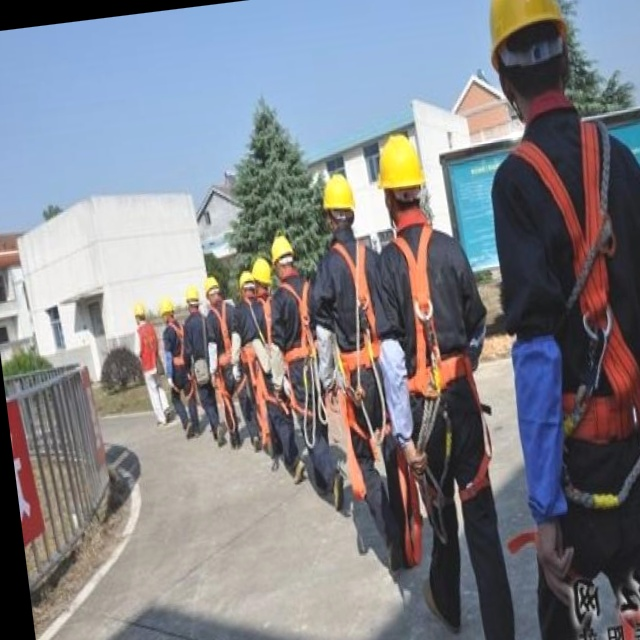Con_Casco: (481, 0, 577, 111), (371, 130, 430, 224), (320, 169, 358, 232)
